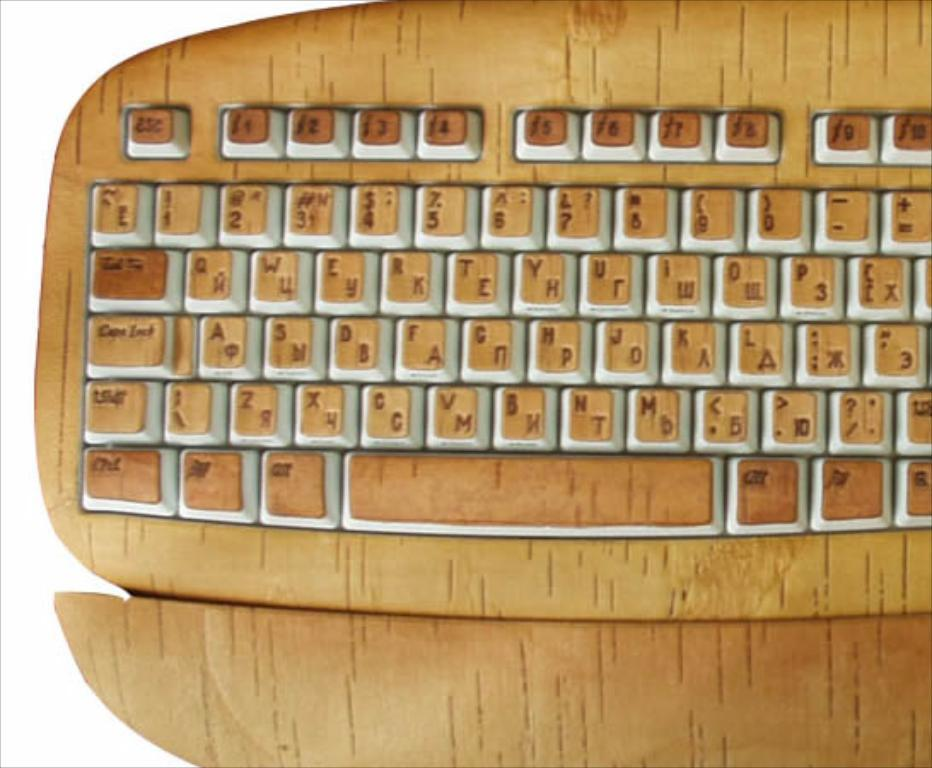Computer-keyboard: (31, 0, 930, 618)
